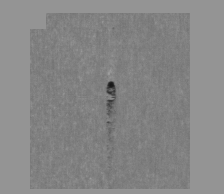oxl: (35, 10, 189, 184)
